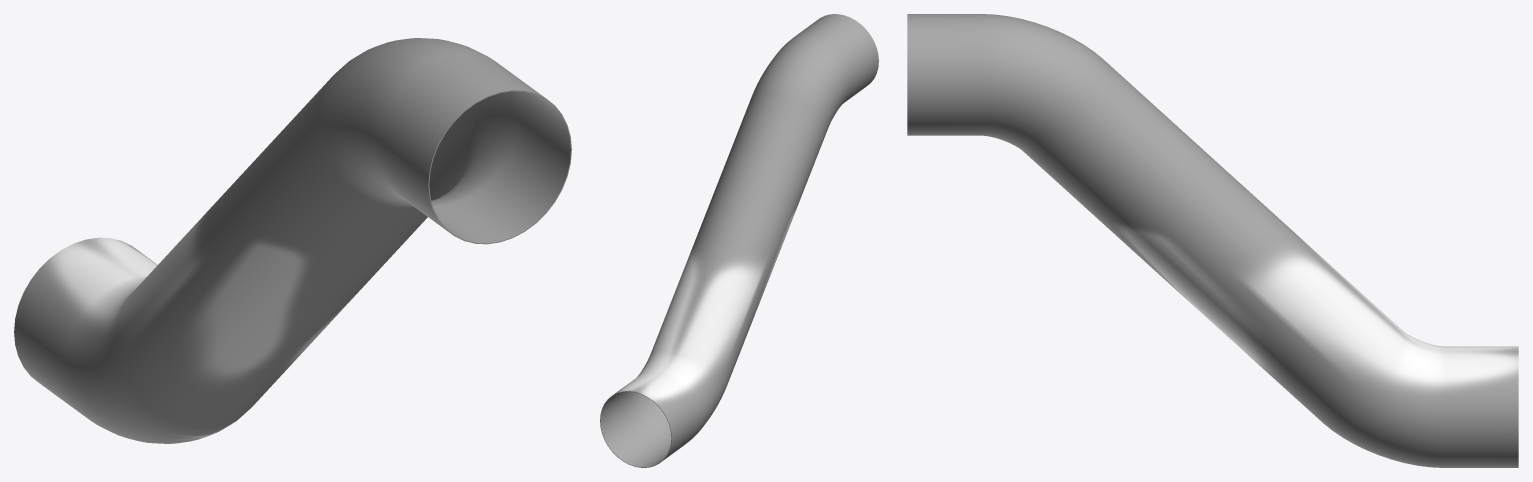
Rendered from Large slide tube.fbx.
3 renders of one model, left to right at view 1: azimuth 30°, elevation 25°; view 2: azimuth 150°, elevation 25°; view 3: azimuth 270°, elevation 25°, orthographic. The views are drawn at different scales.
Visible parts, largest first — view 1: Large slide tube.001; view 2: Large slide tube.001; view 3: Large slide tube.001.
Boxes of the visible parts, bbox=[...] form: Large slide tube.001: bbox=[14, 38, 571, 443]; Large slide tube.001: bbox=[600, 14, 878, 467]; Large slide tube.001: bbox=[907, 14, 1518, 467].
Size of the model in its own units: 600 by 2400 by 3000.
